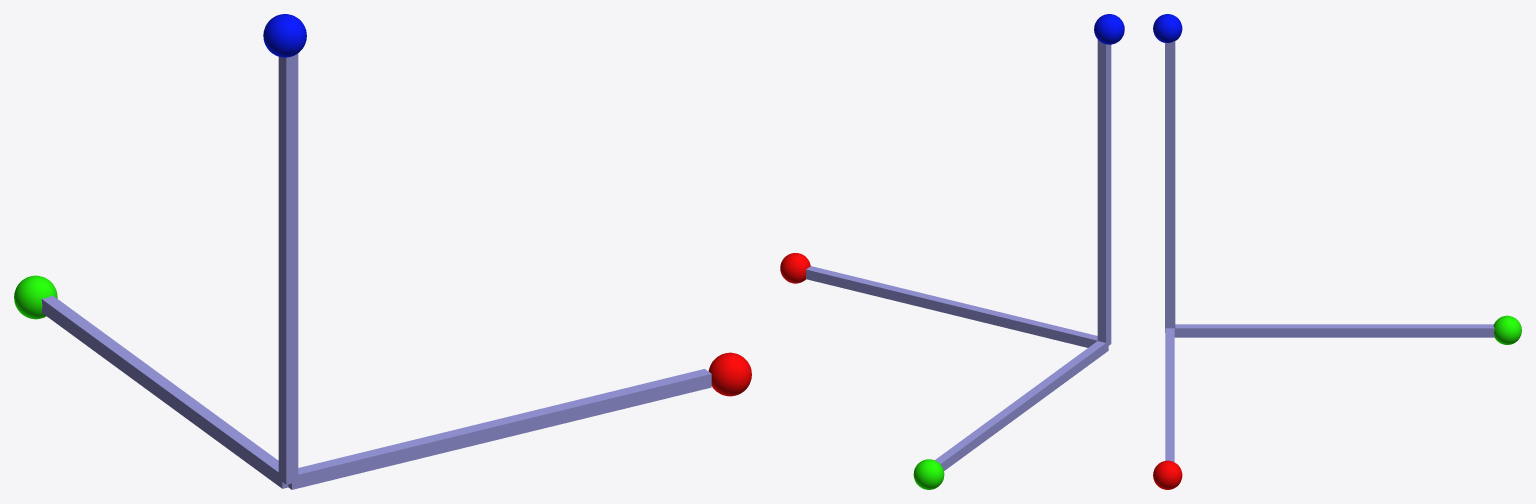
File: simple_000_Translation_00.dae
The picture shows the model from 3 angles, left to right: view 1: azimuth 30°, elevation 25°; view 2: azimuth 150°, elevation 25°; view 3: azimuth 270°, elevation 25°; orthographic projection. The views are drawn at different scales.
Visible parts, largest first — view 1: Box01, Box03, Box02, Sphere03, Sphere02, Sphere01; view 2: Box01, Box03, Box02, Sphere01, Sphere03, Sphere02; view 3: Box02, Box01, Box03, Sphere02, Sphere03, Sphere01.
Boxes of the visible parts, <box> form: Box01: <box>278,53,298,484</box>; Box03: <box>288,369,711,489</box>; Box02: <box>41,295,288,488</box>; Sphere03: <box>263,14,306,57</box>; Sphere02: <box>708,352,751,396</box>; Sphere01: <box>14,275,57,319</box>; Box01: <box>1097,39,1111,347</box>; Box03: <box>806,266,1097,347</box>; Box02: <box>935,341,1108,470</box>; Sphere01: <box>913,459,944,489</box>; Sphere03: <box>1094,14,1124,44</box>; Sphere02: <box>780,253,810,283</box>; Box02: <box>1174,324,1494,337</box>; Box01: <box>1165,41,1175,332</box>; Box03: <box>1165,328,1174,462</box>; Sphere02: <box>1153,460,1182,489</box>; Sphere03: <box>1153,14,1182,42</box>; Sphere01: <box>1493,315,1521,344</box>.
Bounding box in the file's own units: 3266 × 3215 × 3147.
